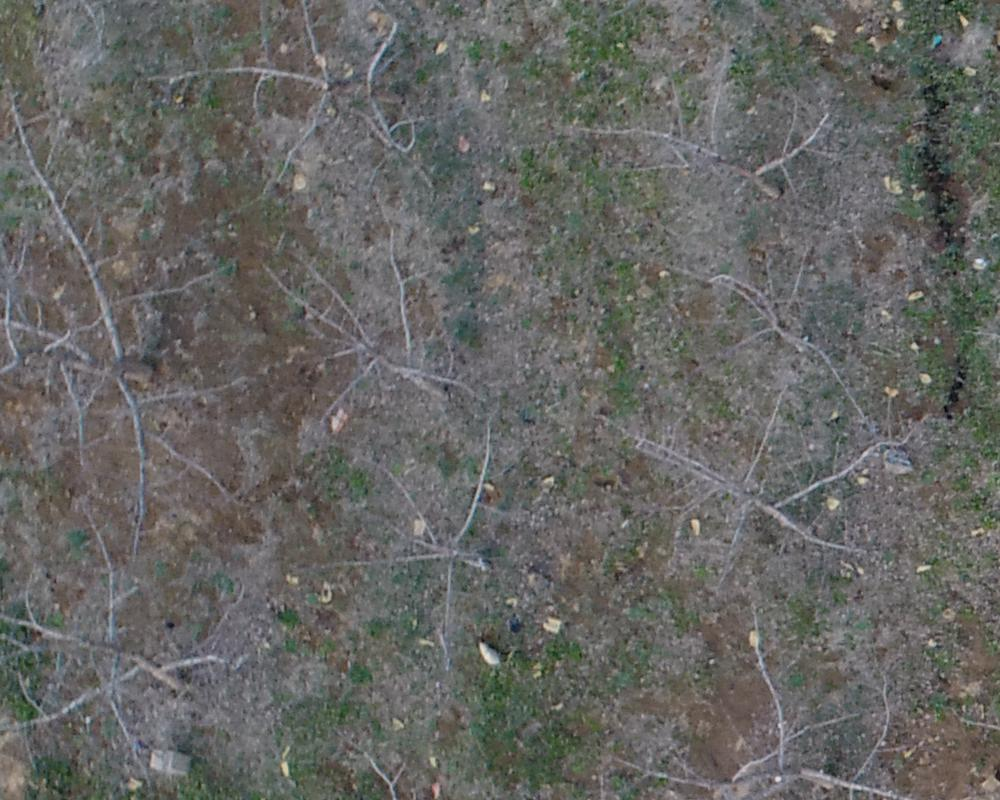apple: (10, 102, 252, 582), (645, 602, 963, 790), (623, 398, 908, 581), (553, 52, 835, 231), (10, 556, 240, 773), (165, 10, 432, 187), (258, 240, 492, 431), (329, 439, 533, 631), (694, 241, 908, 414)
